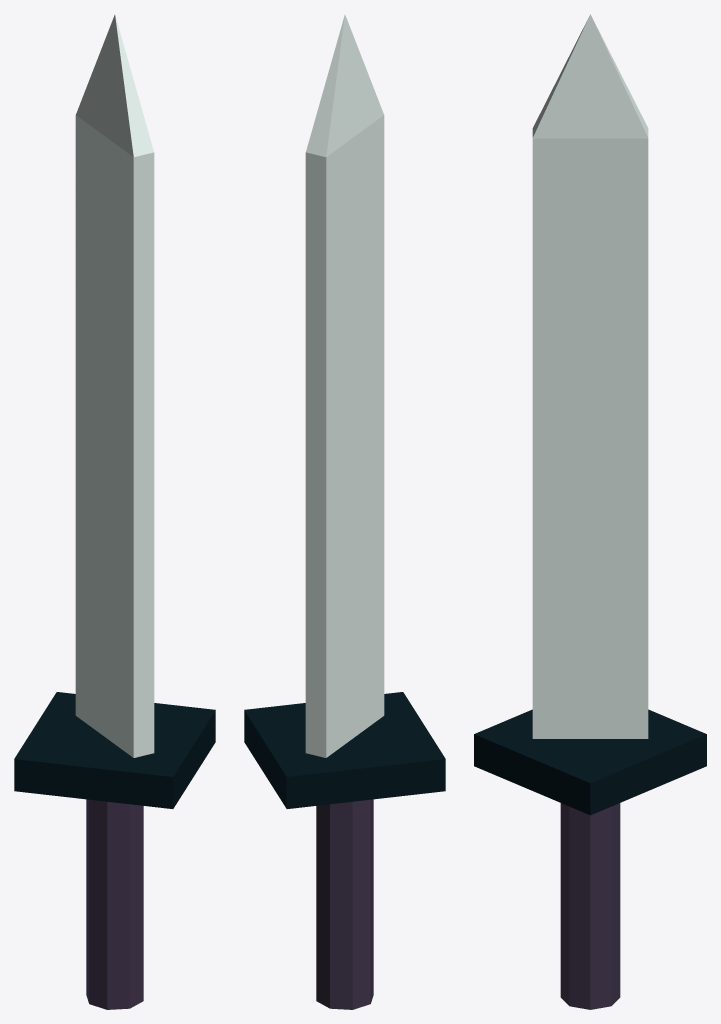
File: simplesword.fbx
3 views of the same model, side by side, from view 1: azimuth 30°, elevation 25°; view 2: azimuth 150°, elevation 25°; view 3: azimuth 270°, elevation 25° (orthographic).
Parts seen in each view (by area): view 1: Cylinder; view 2: Cylinder; view 3: Cylinder.
Boxes of the visible parts, x1,y1,x2,y2 form: Cylinder: (14,14,215,1009); Cylinder: (244,14,445,1009); Cylinder: (474,14,706,1009).
Bounding box in the file's own units: 67.52 × 315 × 67.52.
Materials: 1 (1 with a texture image).
